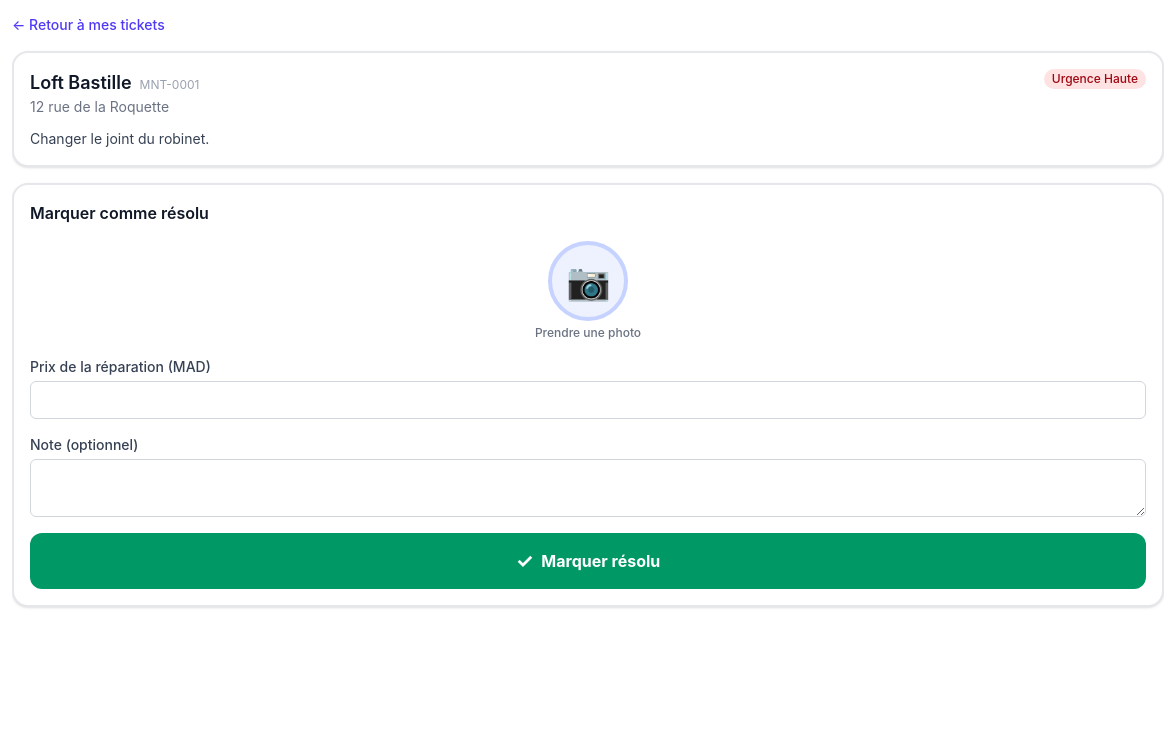
Test: TicketDetailAgent › refuse la résolution sans photo ni prix
Step 1. Click the button "✓ Marquer résolu" → (588, 561), box [30,533,1146,589]
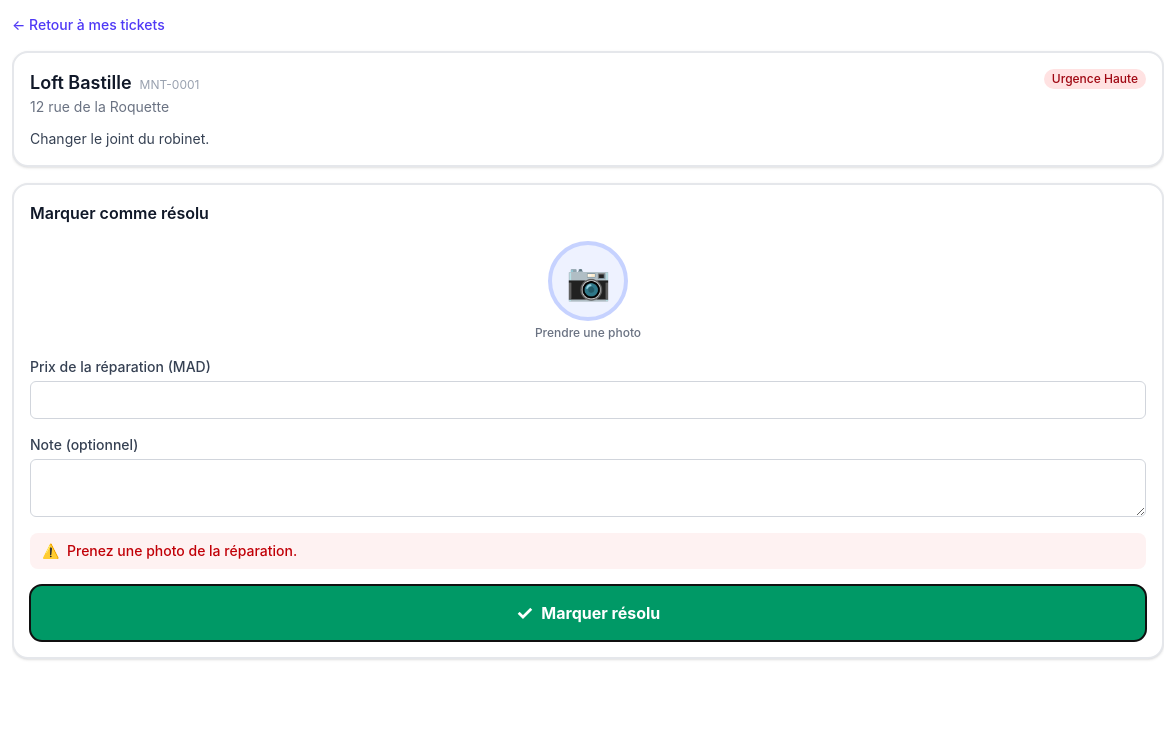
Expected: the text "⚠️ Prenez une photo de la réparation." is shown, [30,533,1146,569]
